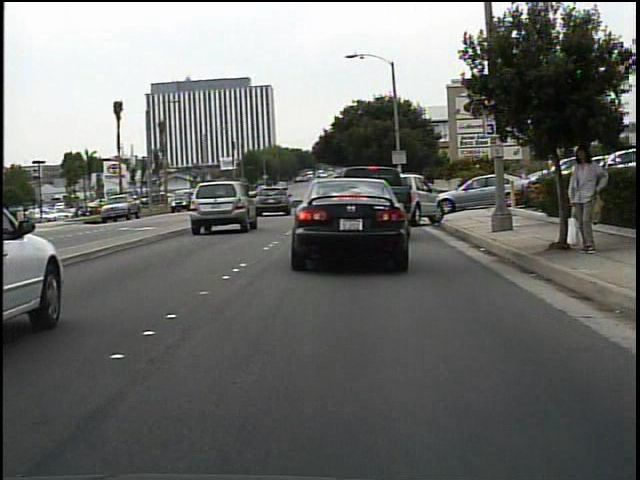person: (564, 139, 612, 257)
